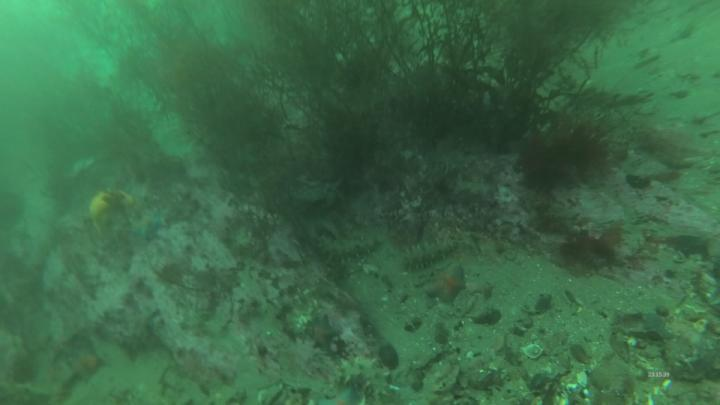holothurian: (330, 352, 406, 405), (315, 230, 385, 261), (404, 239, 463, 271)
starfish: (426, 267, 468, 307), (129, 205, 174, 238)
waterweeds: (63, 2, 623, 192)
